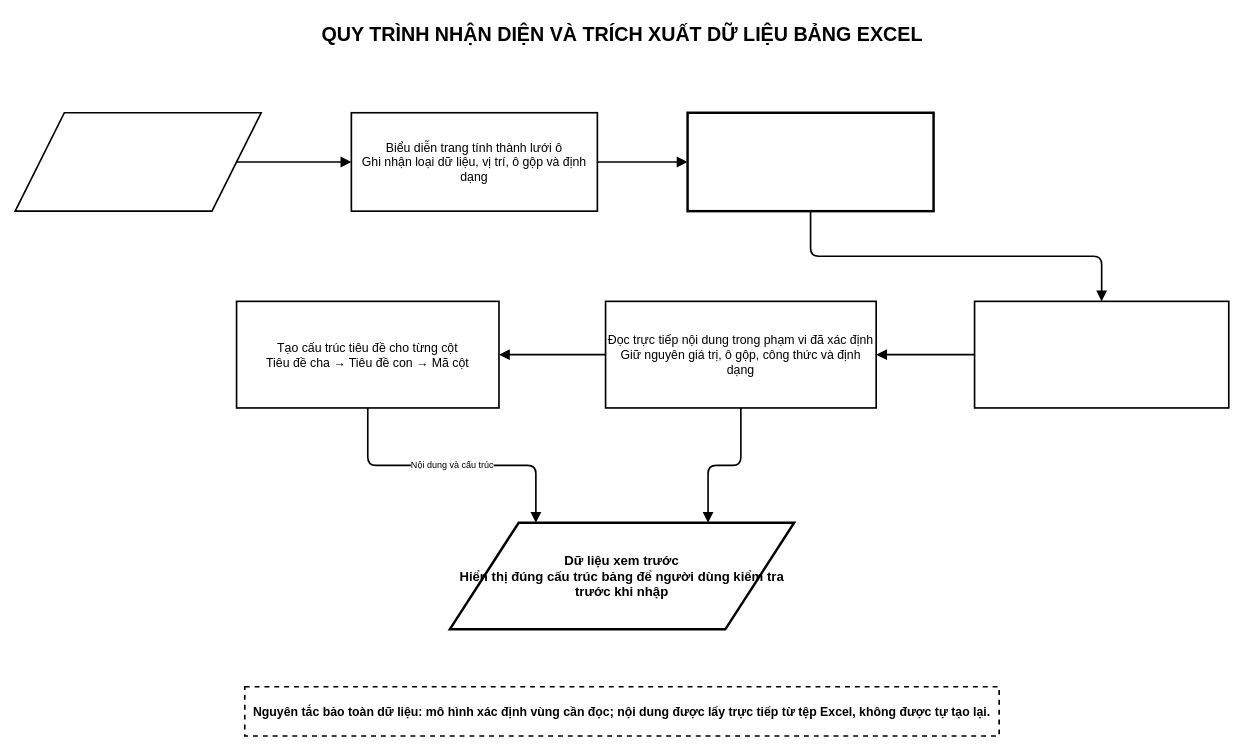
The diagram is 1243 pixels wide and 750 high, and some of its shapes have lost their labels. The centre of each missing label's shape, as x and y in pixels:
Mô hình nhận diện vai trò của ô Ngoài bảng · Tiêu đề · Giá trị: the point at 810,161
Tệp Excel báo cáo Bố cục, vị trí bảng và số tầng tiêu đề có thể khác nhau: the point at 138,162
Xác định phạm vi bảng Hàng/cột bắt đầu · Hàng/cột kết thúc · Hàng cuối tiêu đề: the point at 1101,354
